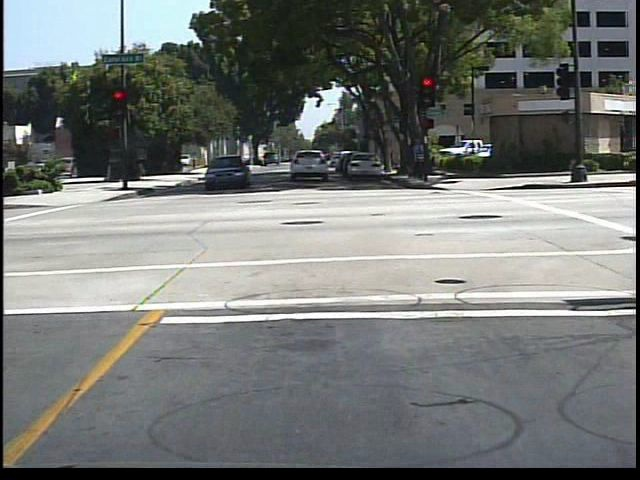person: (410, 137, 428, 184)
